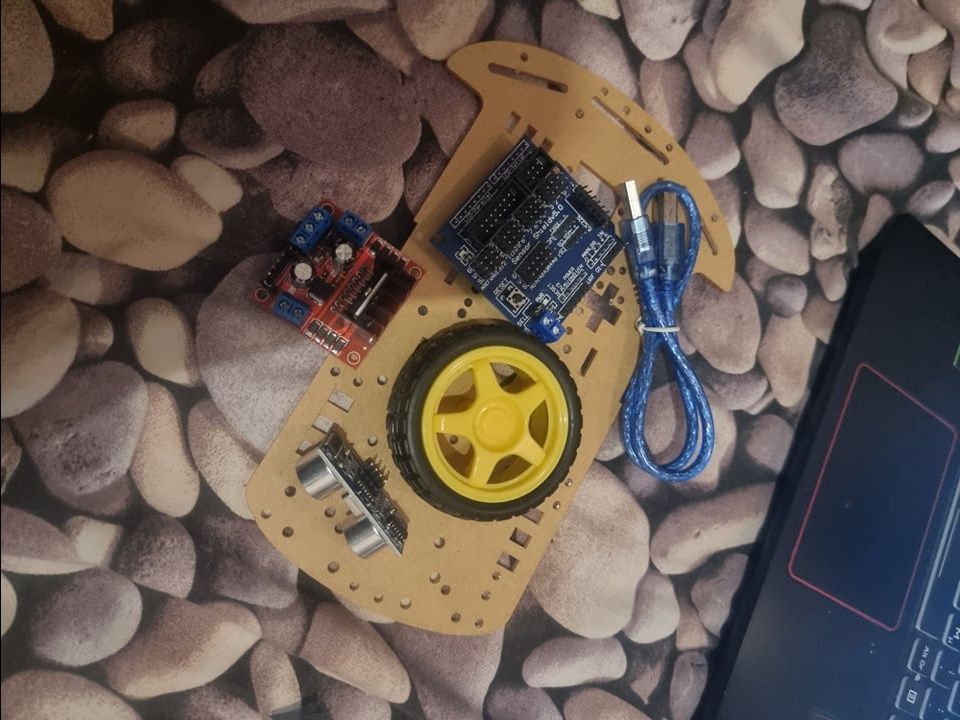5V EXPANSION: (425, 131, 625, 343)
MOTOR: (247, 199, 423, 371)
SENSOR: (293, 430, 408, 560)
